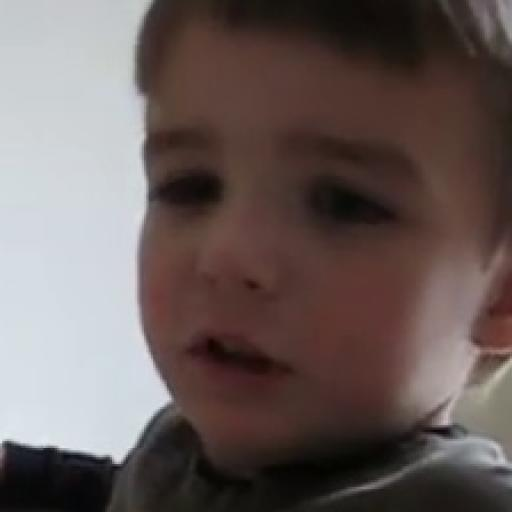Autism: (112, 0, 512, 485)
